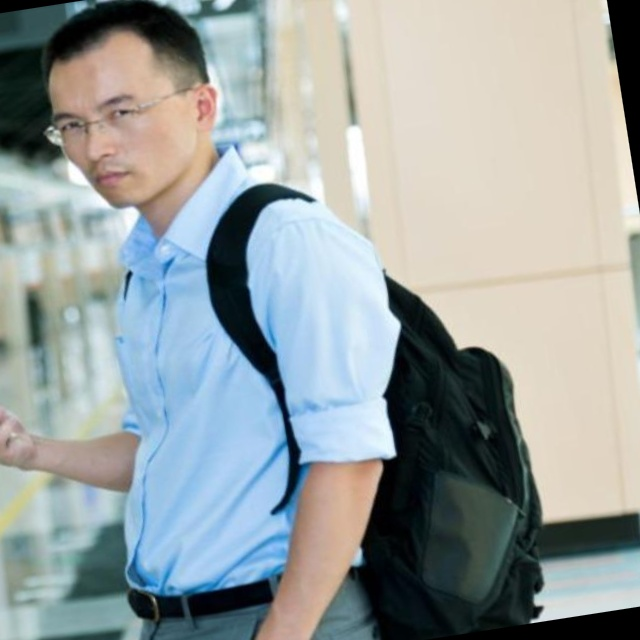Sin_Casco_Mascarrilla: (24, 0, 233, 214)
Sin_Chaleco: (66, 165, 420, 610)
